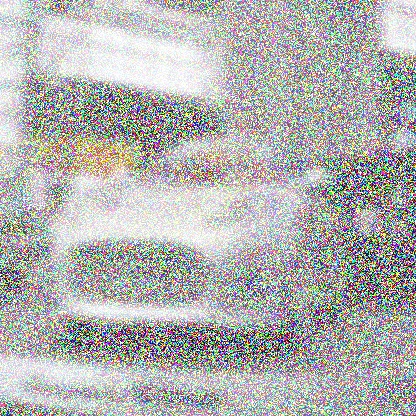Vehicle: (50, 132, 344, 346)
